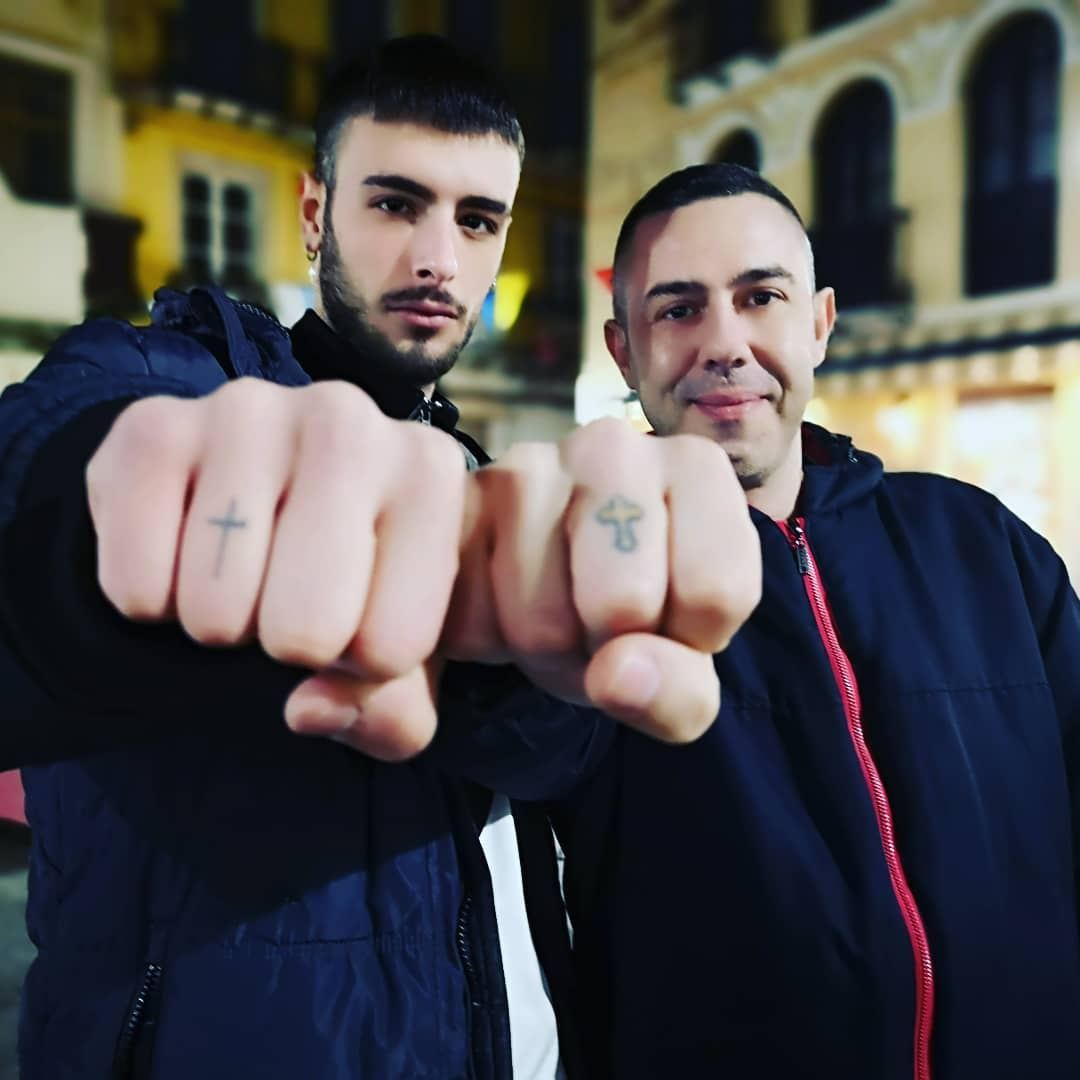hand: (468, 438, 711, 710)
